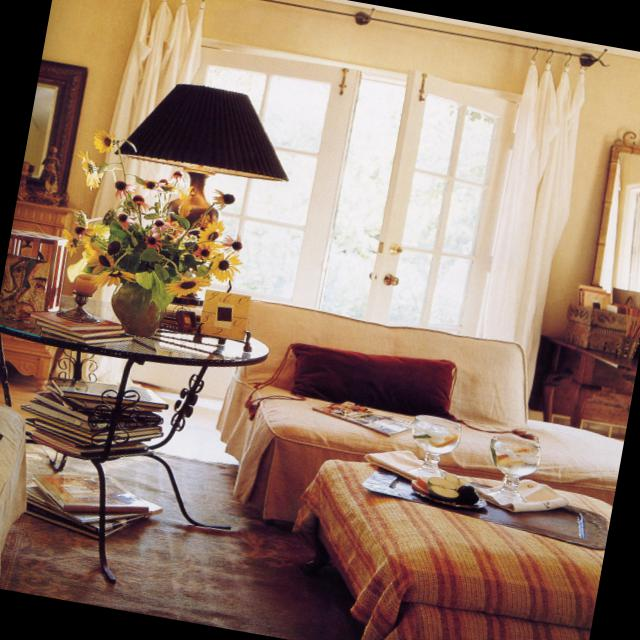Kissen: (282, 344, 453, 425)
box contants: (563, 302, 628, 359)
lamp crop: (116, 86, 283, 330)
mirror crop: (17, 60, 86, 204)
tumbler: (482, 436, 535, 498), (409, 415, 459, 479)
vase -X: (110, 276, 163, 335)
